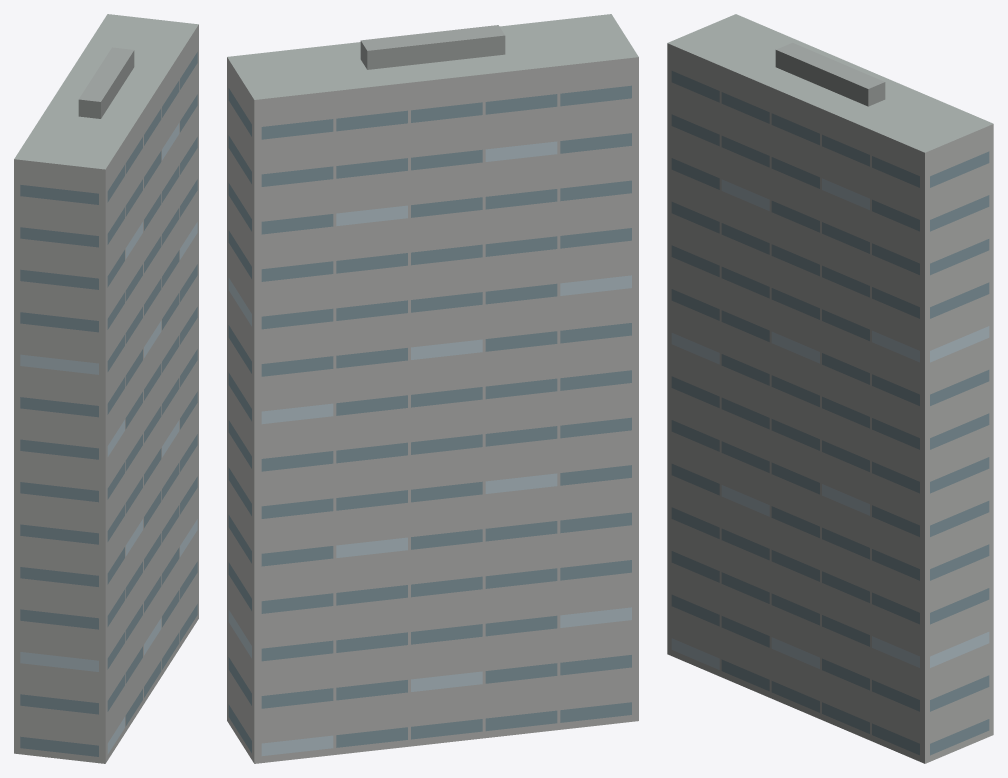
Rendered from fallback-jamsil-ricenz-241.glb.
3 views of the same model, side by side, from view 1: azimuth 30°, elevation 25°; view 2: azimuth 150°, elevation 25°; view 3: azimuth 270°, elevation 25° (orthographic). The views are drawn at different scales.
Parts seen in each view (by area): view 1: fallback-jamsil-ricenz-241; view 2: fallback-jamsil-ricenz-241; view 3: fallback-jamsil-ricenz-241.
Boxes of the visible parts, x1,y1,x2,y2 form: fallback-jamsil-ricenz-241: [14, 14, 198, 763]; fallback-jamsil-ricenz-241: [227, 14, 638, 763]; fallback-jamsil-ricenz-241: [667, 14, 993, 763].
Size of the model in its own units: 40.73 by 86 by 40.5.
